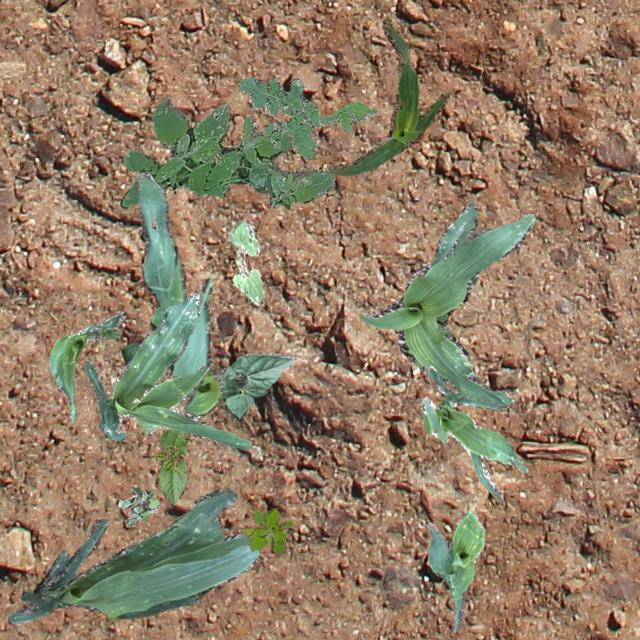crop: (360, 200, 534, 407), (8, 486, 258, 622), (84, 292, 250, 448), (120, 172, 222, 414), (328, 18, 448, 174), (420, 364, 528, 502), (48, 310, 126, 422), (426, 511, 484, 632), (218, 352, 296, 418), (228, 220, 264, 304), (152, 428, 186, 504)
weed: (120, 96, 334, 208), (238, 76, 376, 158), (242, 508, 292, 554), (118, 486, 158, 526)
